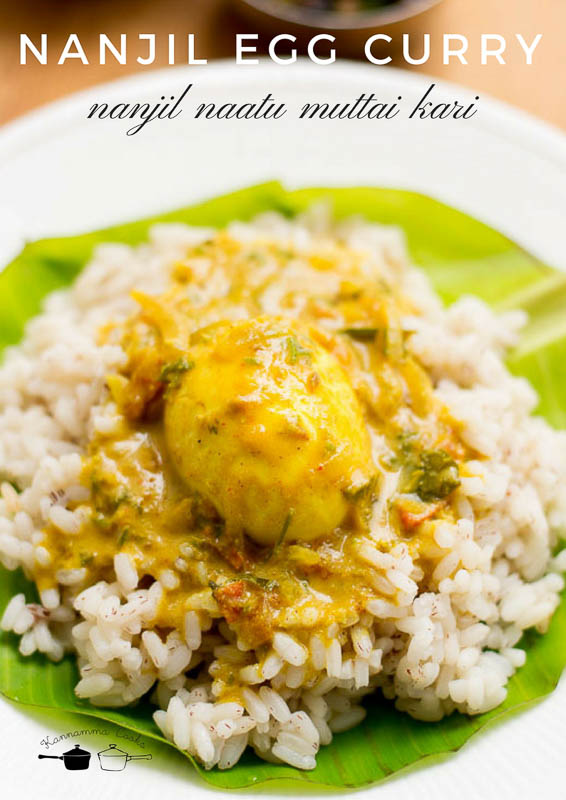curry: (97, 241, 449, 618)
rice: (8, 175, 565, 764)
